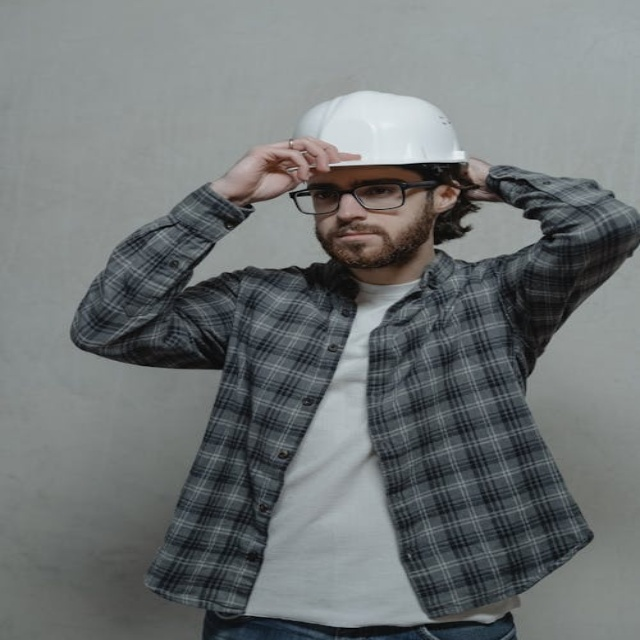Gafas: (289, 180, 441, 215)
Sin_guantes: (198, 133, 337, 209)
Sin_mascara: (317, 226, 388, 258)
